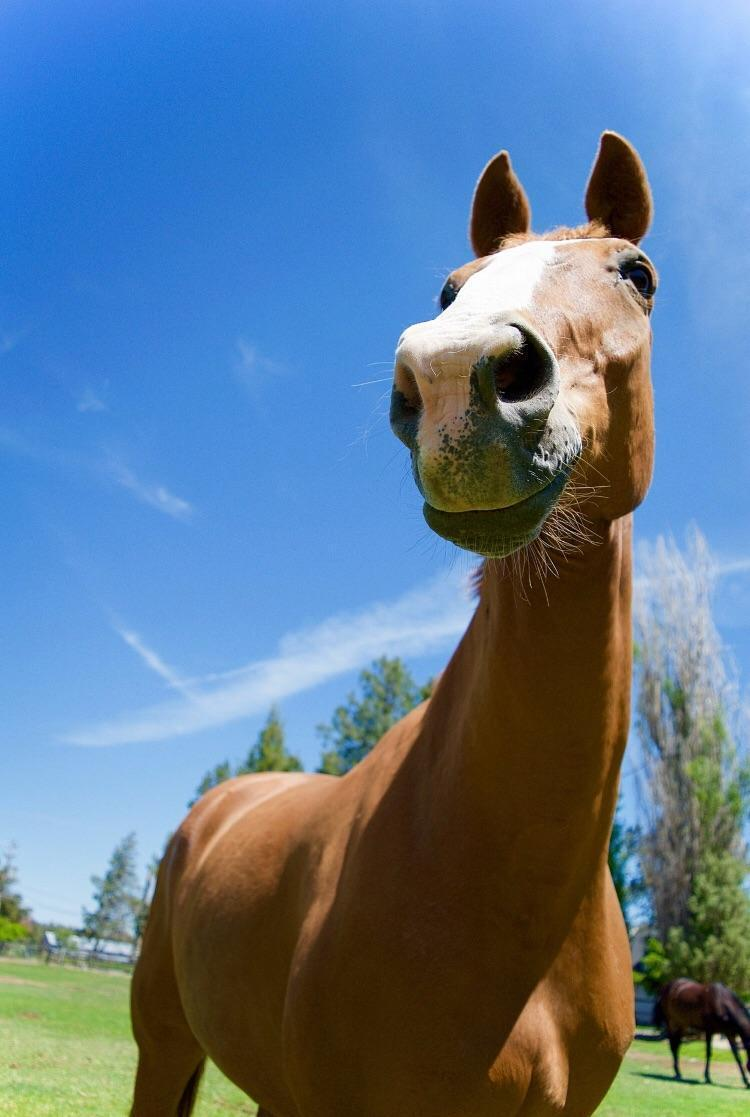horse: (113, 118, 680, 1117)
